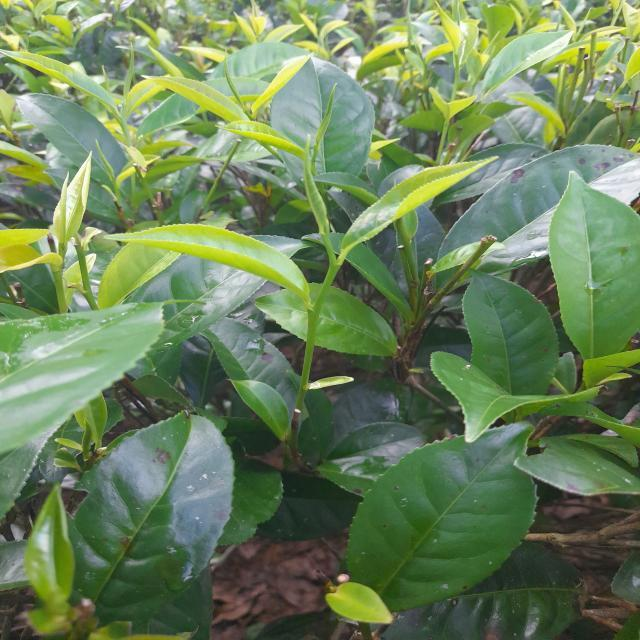Stem: (327, 265, 339, 278), (53, 272, 63, 282)
